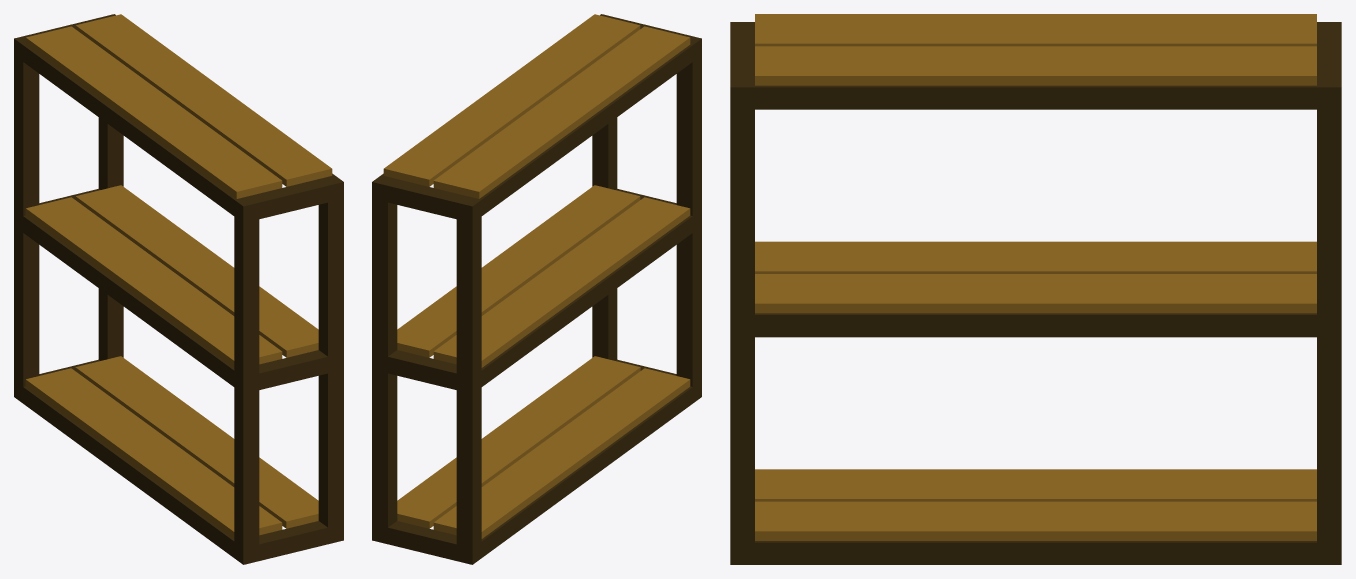
Rendered from stalaza.FBX.
3 views of the same model, side by side, from view 1: azimuth 30°, elevation 25°; view 2: azimuth 150°, elevation 25°; view 3: azimuth 270°, elevation 25° (orthographic). The views are drawn at different scales.
Parts seen in each view (by area): view 1: Box1492, Box1479; view 2: Box1492, Box1479; view 3: Box1492, Box1479.
Boxes of the visible parts, x1,y1,x2,y2 form: Box1492: (25,14,332,538); Box1479: (14,14,343,564); Box1492: (383,14,690,538); Box1479: (372,14,701,564); Box1492: (755,14,1316,540); Box1479: (730,22,1341,564).
Size of the model in its own units: 44 by 153 by 174.
